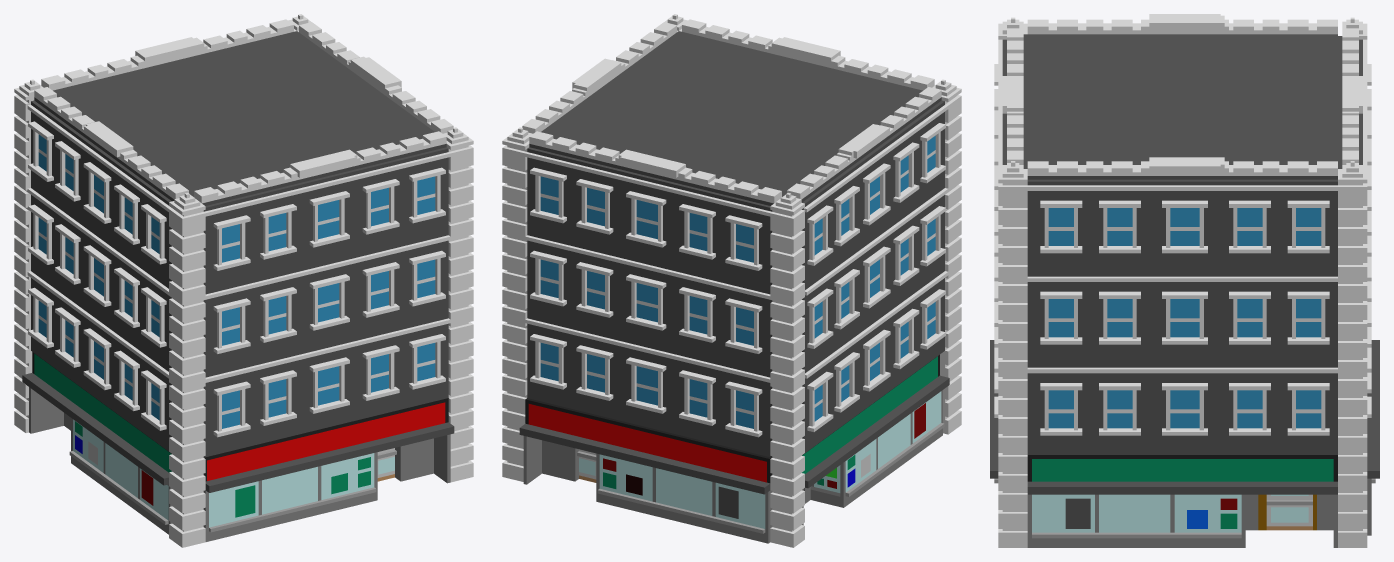
File: obj_store02_Grey.obj
3 renders of one model, left to right at view 1: azimuth 30°, elevation 25°; view 2: azimuth 150°, elevation 25°; view 3: azimuth 270°, elevation 25°, orthographic. The views are drawn at different scales.
Bounding box in the file's own units: 9.1 × 10 × 9.3.
1 material, 1 textured.
